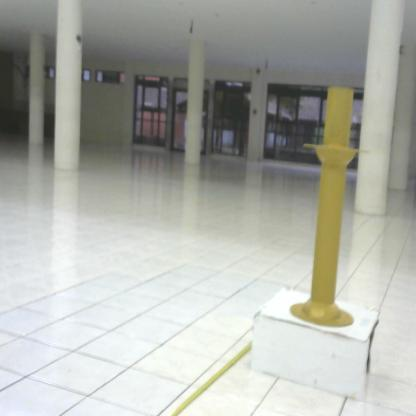pole: (289, 82, 370, 331)
